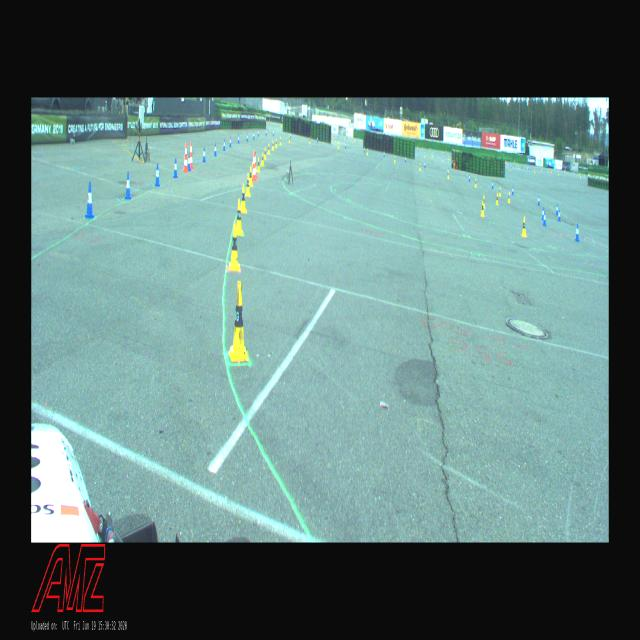blue_cone: (84, 182, 94, 218), (125, 172, 131, 200), (154, 164, 160, 186), (173, 158, 178, 178), (574, 224, 580, 240), (188, 153, 192, 171), (202, 146, 206, 162), (214, 142, 218, 156), (542, 212, 546, 226), (558, 210, 562, 222), (223, 138, 226, 150), (542, 208, 544, 220), (230, 136, 232, 148), (468, 174, 471, 182), (556, 204, 558, 215), (538, 196, 540, 206), (238, 134, 240, 144), (246, 133, 248, 142), (512, 187, 514, 196), (253, 132, 255, 140), (258, 129, 260, 137), (492, 181, 494, 189), (424, 160, 426, 168), (383, 150, 385, 158), (364, 145, 366, 153), (344, 142, 346, 149), (316, 136, 318, 142), (266, 130, 268, 136), (290, 132, 291, 139), (405, 156, 406, 162), (273, 130, 274, 136)
large_orange_cone: (182, 144, 188, 172), (252, 152, 257, 181), (190, 142, 194, 170), (255, 151, 258, 178)
yellow_cone: (229, 282, 249, 362), (228, 224, 240, 270), (237, 200, 243, 234), (241, 185, 247, 212), (245, 173, 251, 196), (521, 217, 527, 237), (480, 202, 484, 218), (250, 166, 253, 186), (482, 194, 486, 208), (256, 158, 260, 172), (261, 154, 264, 166), (507, 192, 510, 202), (264, 148, 266, 160), (496, 193, 498, 204), (499, 186, 501, 196), (268, 144, 270, 154), (272, 140, 274, 150), (447, 170, 449, 179), (275, 140, 277, 148), (280, 137, 282, 145), (474, 179, 476, 187), (419, 162, 421, 170), (394, 155, 396, 163), (309, 136, 311, 144), (288, 136, 290, 144), (366, 148, 368, 155), (338, 142, 340, 148)
